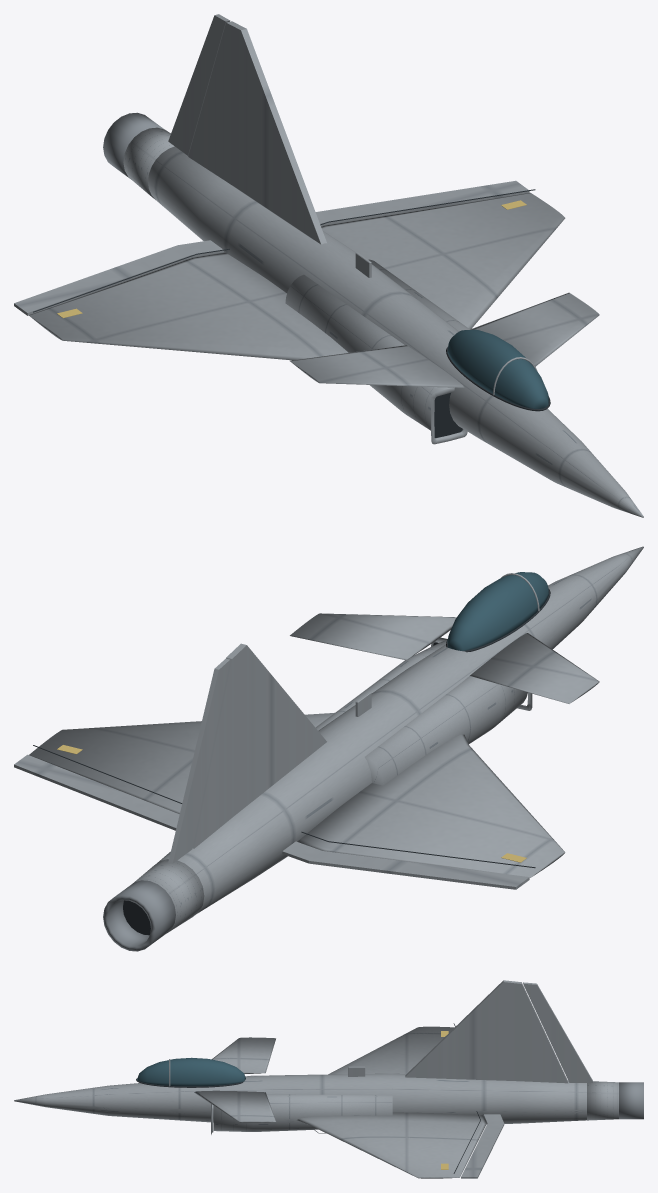
The model's file is jas-39c-gripen.glb.
3 renders of one model, top to bottom at view 1: azimuth 30°, elevation 25°; view 2: azimuth 150°, elevation 25°; view 3: azimuth 270°, elevation 25°, orthographic. The views are drawn at different scales.
Parts seen in each view (by area): view 1: airframe_static, canopy, canard_L, canard_R, elevon_L, elevon_R, rudder_1; view 2: airframe_static, canard_R, canopy, canard_L, elevon_L, rudder_1, elevon_R; view 3: airframe_static, canopy, rudder_1, canard_R, canard_L, elevon_R.
Boxes of the visible parts, bbox=[...] form: airframe_static: bbox=[28, 21, 643, 517]; canopy: bbox=[446, 329, 550, 411]; canard_L: bbox=[289, 345, 464, 387]; canard_R: bbox=[470, 292, 599, 366]; elevon_L: bbox=[14, 240, 223, 315]; elevon_R: bbox=[315, 180, 529, 225]; rudder_1: bbox=[168, 14, 230, 155]; airframe_static: bbox=[29, 546, 643, 951]; canard_R: bbox=[290, 613, 456, 660]; canopy: bbox=[446, 572, 550, 652]; canard_L: bbox=[470, 633, 599, 703]; elevon_L: bbox=[282, 841, 529, 889]; rudder_1: bbox=[168, 658, 229, 863]; elevon_R: bbox=[14, 754, 179, 830]; airframe_static: bbox=[14, 980, 643, 1178]; canopy: bbox=[136, 1057, 245, 1087]; rudder_1: bbox=[523, 982, 593, 1082]; canard_R: bbox=[194, 1090, 276, 1122]; canard_L: bbox=[212, 1037, 275, 1073]; elevon_R: bbox=[461, 1114, 504, 1178].
Size of the model in its own units: 8.4 by 3.77 by 14.89.
5 materials, 1 textured.
